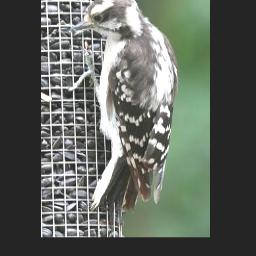Woodpecker: (67, 0, 179, 219)
